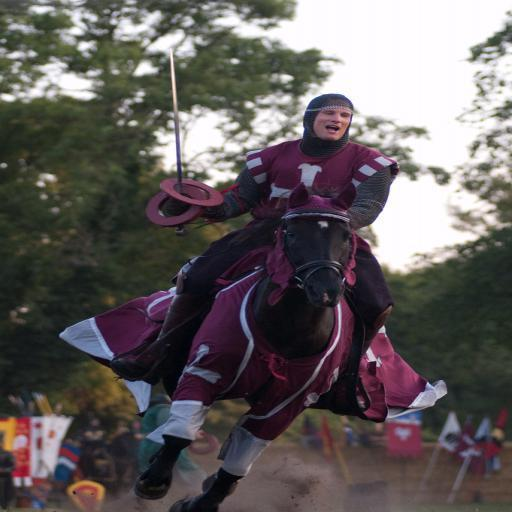horse: (132, 178, 362, 512)
